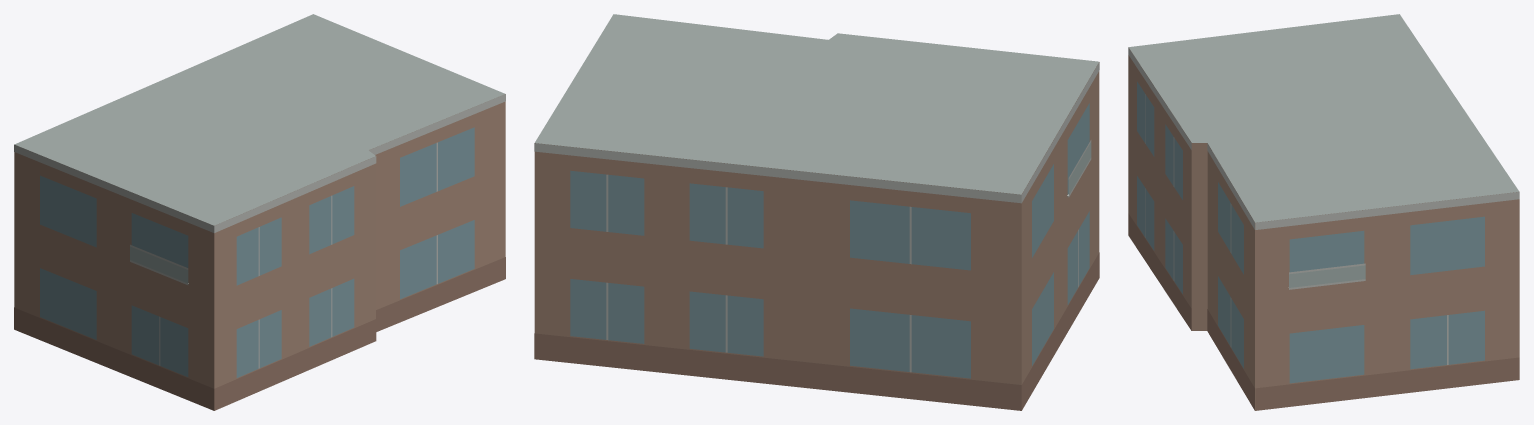
File: survey-upis-32918362.glb
3 renders of one model, left to right at view 1: azimuth 30°, elevation 25°; view 2: azimuth 150°, elevation 25°; view 3: azimuth 270°, elevation 25°, orthographic. The views are drawn at different scales.
Parts seen in each view (by area): view 1: survey-upis-32918362.tmp; view 2: survey-upis-32918362.tmp; view 3: survey-upis-32918362.tmp.
Boxes of the visible parts, x1,y1,x2,y2 form: survey-upis-32918362.tmp: (14, 14, 505, 410); survey-upis-32918362.tmp: (534, 14, 1099, 410); survey-upis-32918362.tmp: (1128, 14, 1519, 410).
Bounding box in the file's own units: 14.51 × 6.1 × 11.5.
